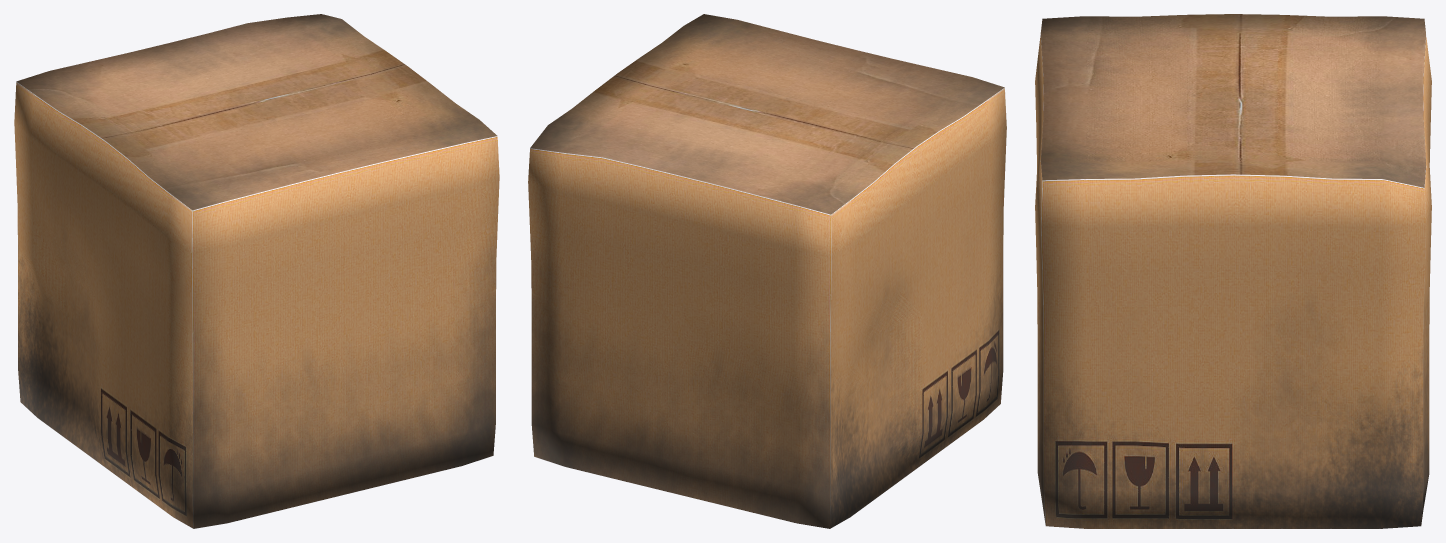
The model's file is cardboardBox.fbx.
The picture shows the model from 3 angles, left to right: view 1: azimuth 30°, elevation 25°; view 2: azimuth 150°, elevation 25°; view 3: azimuth 270°, elevation 25°; orthographic projection. The views are drawn at different scales.
Visible parts, largest first — view 1: Cube; view 2: Cube; view 3: Cube.
Part boxes in pixels (x1,y1,x2,y2): Cube: [14, 14, 499, 528]; Cube: [528, 14, 1006, 528]; Cube: [1035, 14, 1431, 528].
Bounding box in the file's own units: 50.64 × 50.7 × 50.64.
